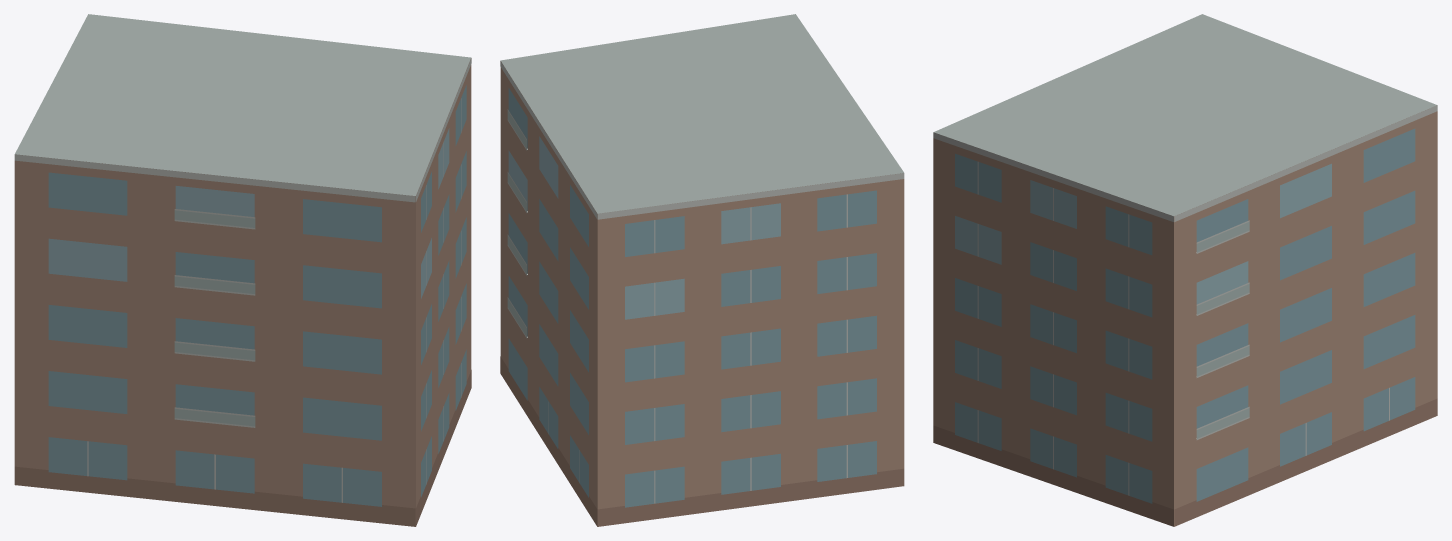
File: survey-upis-32732752.glb
3 views of the same model, side by side, from view 1: azimuth 30°, elevation 25°; view 2: azimuth 150°, elevation 25°; view 3: azimuth 270°, elevation 25° (orthographic). The views are drawn at different scales.
Visible parts, largest first — view 1: survey-upis-32732752.tmp; view 2: survey-upis-32732752.tmp; view 3: survey-upis-32732752.tmp.
Part boxes in pixels (x1,y1,x2,y2): survey-upis-32732752.tmp: (14,14,471,526); survey-upis-32732752.tmp: (500,14,904,526); survey-upis-32732752.tmp: (933,14,1437,526).
Size of the model in its own units: 17.76 by 12.7 by 18.7.
